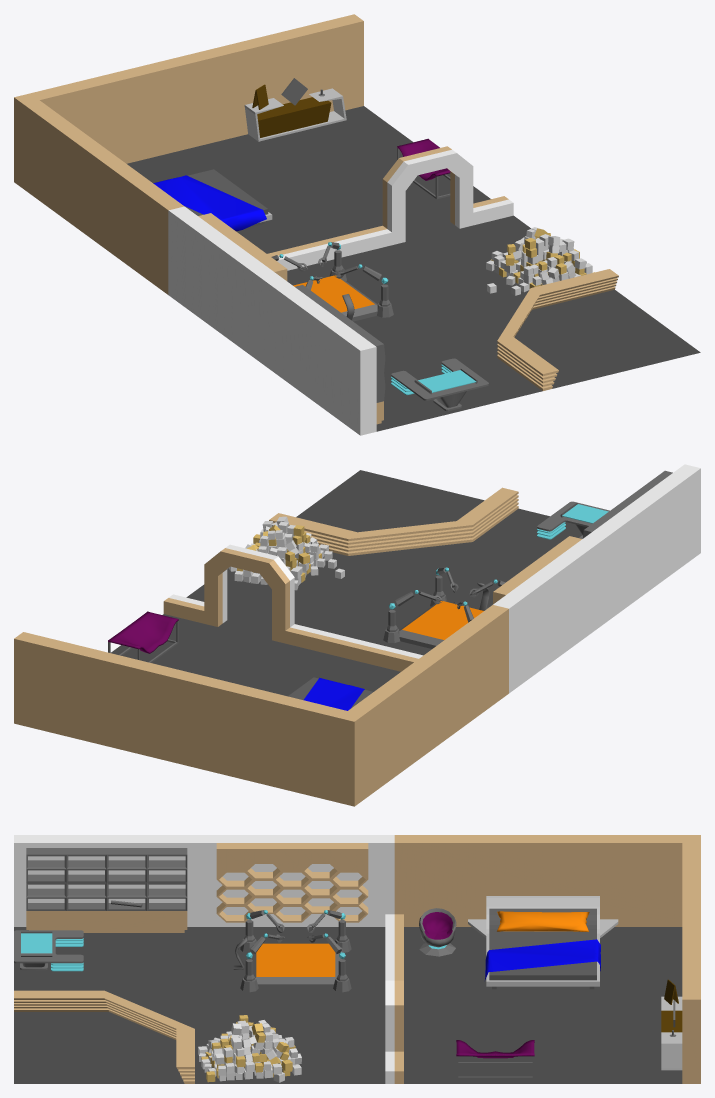
Rendered from shop18.fbx.
3 views of the same model, one above another, from view 1: azimuth 30°, elevation 25°; view 2: azimuth 150°, elevation 25°; view 3: azimuth 270°, elevation 25° (orthographic).
Parts seen in each view (by area): view 1: Paredes, Suelo, Mostrador, Manta, Cube, Cama de creacion, Mesa de diseno, Cube.001, Estante, Armeria, Colchon, Cylinder.001 (+1 smaller); view 2: Paredes, Suelo, Mostrador, Cama de creacion, Asiento, Manta, Armeria, Estante, Mesa de diseno, Cylinder.001; view 3: Suelo, Paredes, Estante, Armeria, Mostrador, Colchon, Cama de creacion, Base, Manta, Almohada, Mesa de diseno, Asiento levitante (+10 smaller).
Part boxes in pixels (<box>): Paredes: <box>14,14,513,435</box>; Suelo: <box>127,106,700,431</box>; Mostrador: <box>497,269,618,390</box>; Manta: <box>153,175,266,231</box>; Cube: <box>257,97,331,137</box>; Cama de creacion: <box>293,275,377,321</box>; Mesa de diseno: <box>391,358,488,411</box>; Cube.001: <box>244,88,346,141</box>; Estante: <box>295,285,385,424</box>; Armeria: <box>198,213,287,280</box>; Colchon: <box>184,169,268,215</box>; Cylinder.001: <box>414,368,477,394</box>; Paredes: <box>14,464,700,806</box>; Suelo: <box>111,470,581,696</box>; Mostrador: <box>269,487,518,555</box>; Cama de creacion: <box>399,601,483,648</box>; Asiento: <box>108,611,178,653</box>; Manta: <box>303,677,364,710</box>; Armeria: <box>493,536,582,604</box>; Estante: <box>583,470,672,538</box>; Mesa de diseno: <box>537,501,609,538</box>; Cylinder.001: <box>560,502,608,523</box>; Suelo: <box>14,927,682,1083</box>; Paredes: <box>14,835,700,1083</box>; Estante: <box>26,848,187,932</box>; Armeria: <box>216,843,368,922</box>; Mostrador: <box>14,990,194,1083</box>; Colchon: <box>489,908,596,980</box>; Cama de creacion: <box>249,943,342,988</box>; Base: <box>468,896,618,989</box>; Manta: <box>485,939,600,979</box>; Almohada: <box>497,911,589,931</box>; Mesa de diseno: <box>14,930,83,970</box>; Asiento levitante: <box>419,908,456,947</box>.
Bounding box in the file's own units: 2100 × 500 × 3700.
